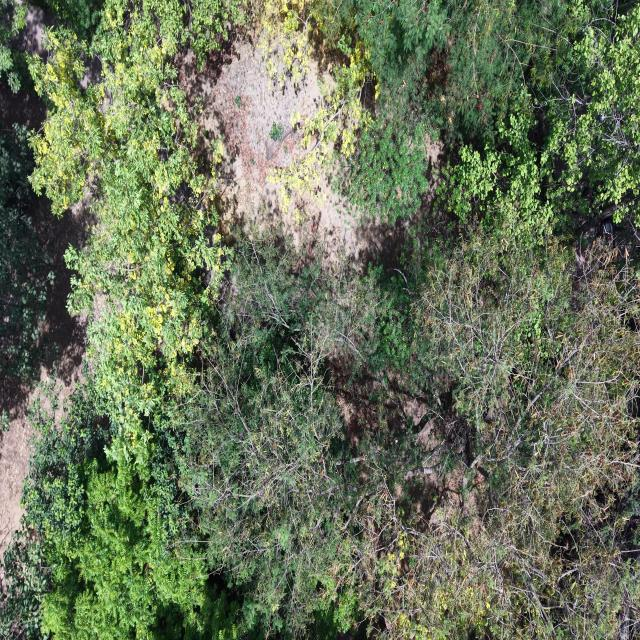DRY_AREA: (181, 43, 443, 272), (179, 33, 406, 263), (180, 42, 407, 270), (179, 39, 406, 266), (180, 36, 406, 264), (180, 43, 355, 253), (181, 43, 356, 253), (0, 198, 87, 554), (0, 198, 86, 553), (0, 203, 85, 542), (329, 359, 486, 535), (332, 363, 486, 539), (0, 382, 39, 555), (0, 377, 31, 553), (0, 417, 31, 555), (9, 4, 59, 58), (10, 4, 57, 56), (0, 83, 45, 130)
VEGETATION_TREE: (0, 0, 639, 639), (184, 235, 639, 637), (0, 3, 241, 637), (389, 236, 639, 637), (31, 2, 223, 465), (179, 236, 372, 636), (345, 2, 638, 232), (0, 382, 243, 639), (24, 389, 237, 639), (549, 4, 639, 226), (437, 94, 566, 247), (0, 123, 53, 381), (0, 125, 53, 379), (340, 111, 437, 223), (35, 0, 103, 39), (0, 0, 26, 92)
